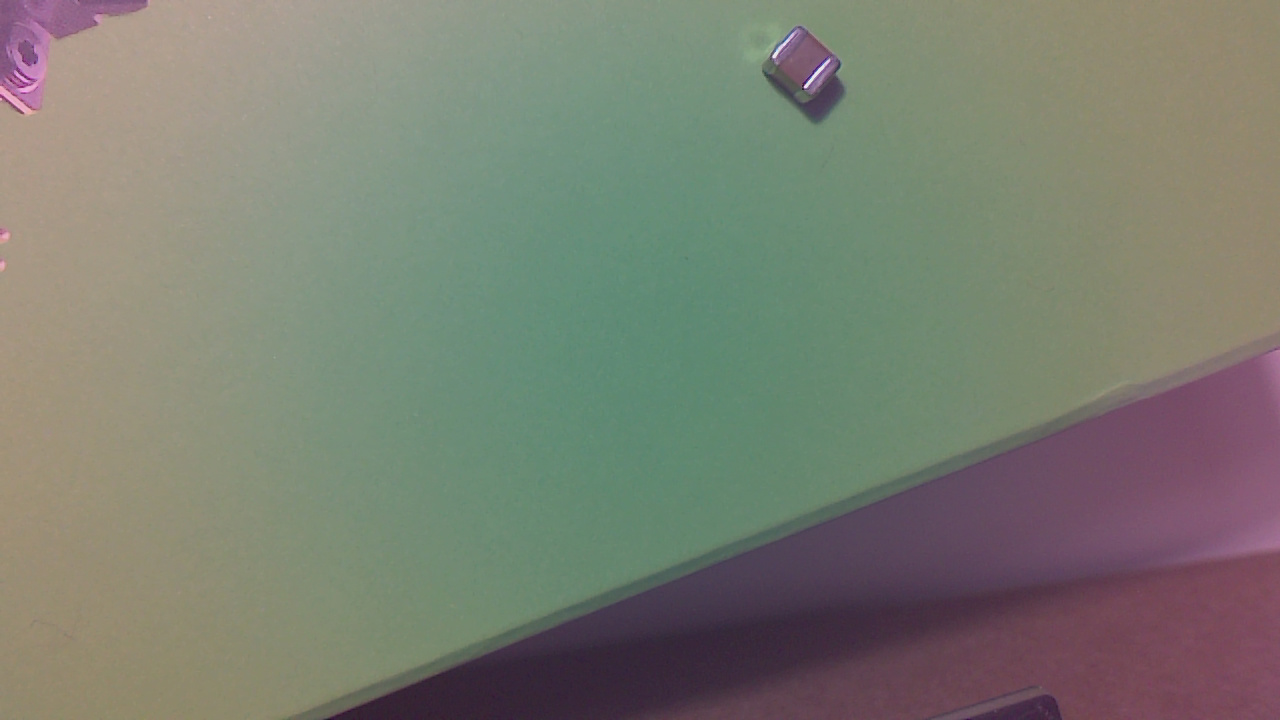Condensator: (763, 29, 843, 111)
